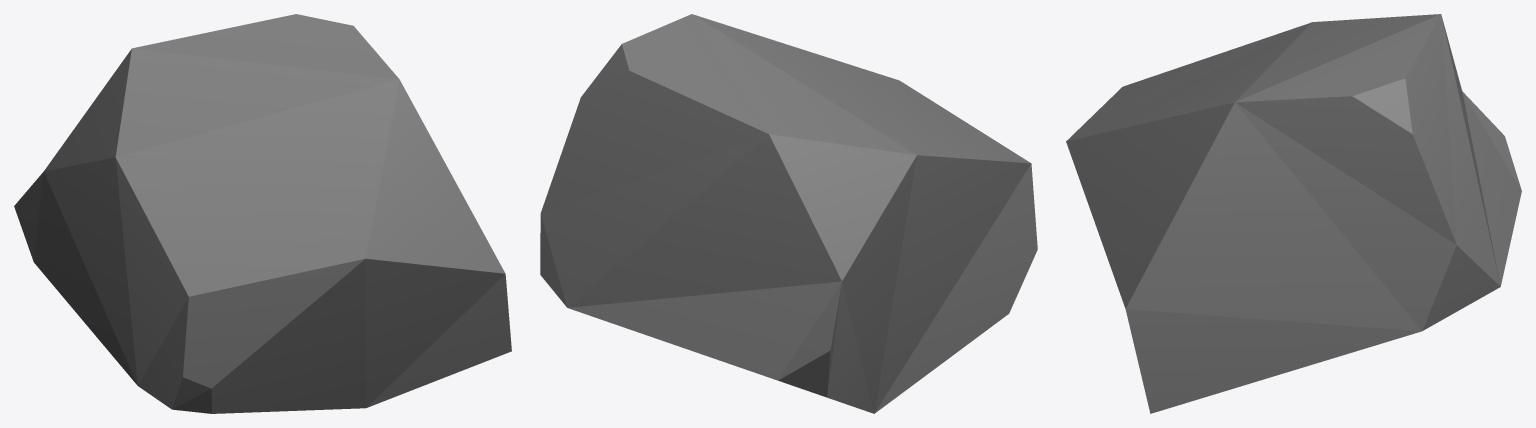
The model's file is stone small 14.fbx.
3 renders of one model, left to right at view 1: azimuth 30°, elevation 25°; view 2: azimuth 150°, elevation 25°; view 3: azimuth 270°, elevation 25°, orthographic. The views are drawn at different scales.
Parts seen in each view (by area): view 1: stone small 14; view 2: stone small 14; view 3: stone small 14.
Part boxes in pixels (box(x1,y1,x2,y2)): stone small 14: box(14, 14, 511, 413); stone small 14: box(540, 14, 1037, 413); stone small 14: box(1066, 14, 1521, 413).
Bounding box in the file's own units: 53.22 × 44.45 × 58.23.
